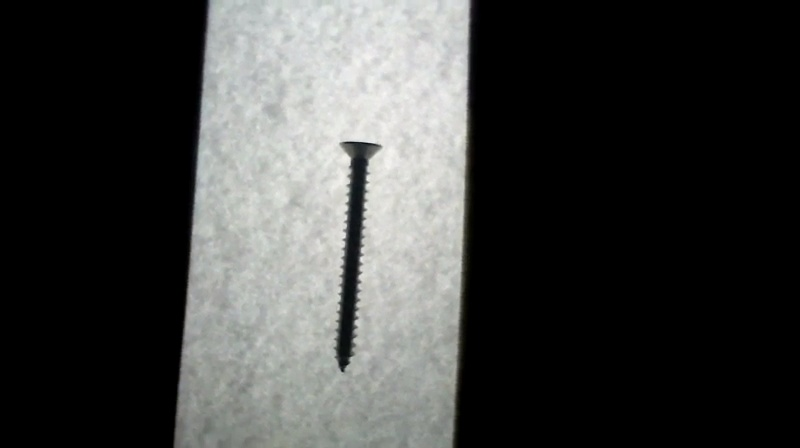S002: (330, 136, 386, 376)
